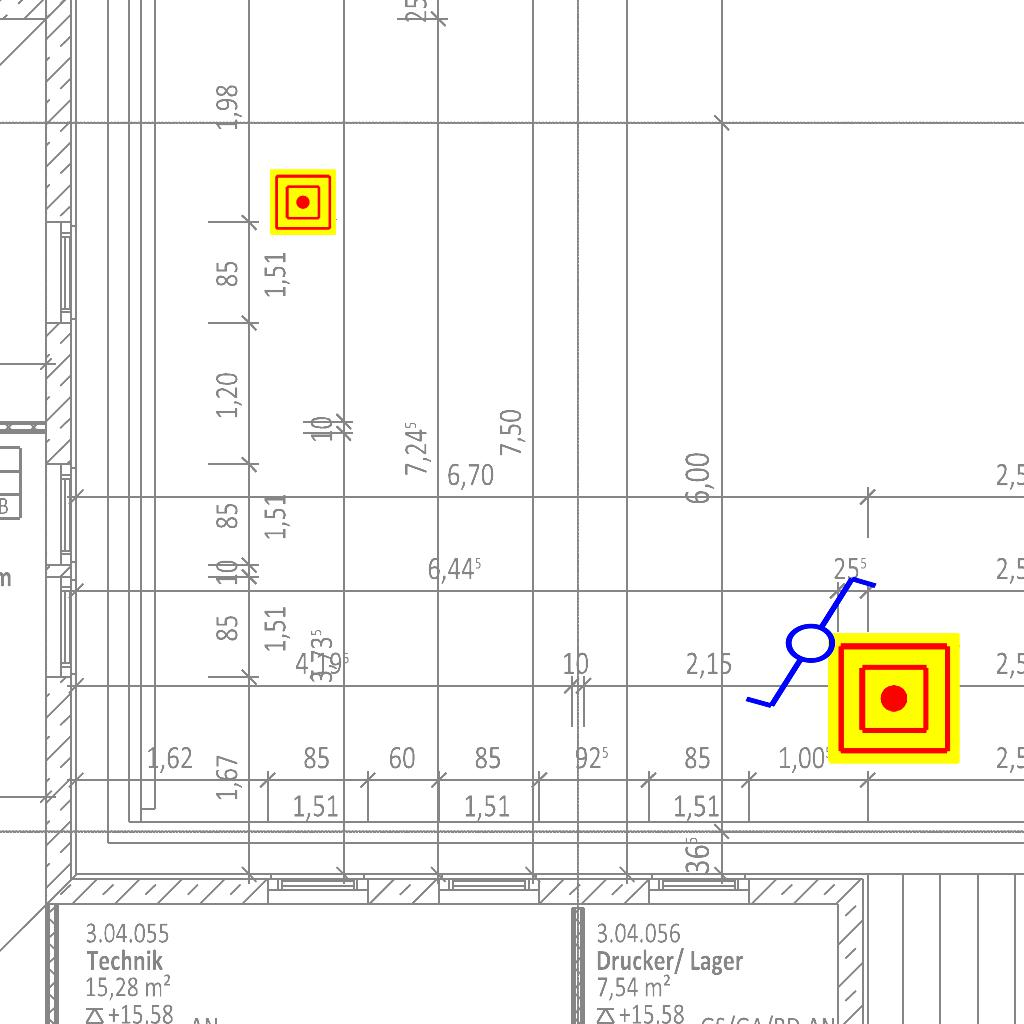NAM-Nichtautomatischer_Melder: (828, 632, 960, 764), (270, 169, 336, 235)
Wechselschalter: (724, 569, 881, 713)
